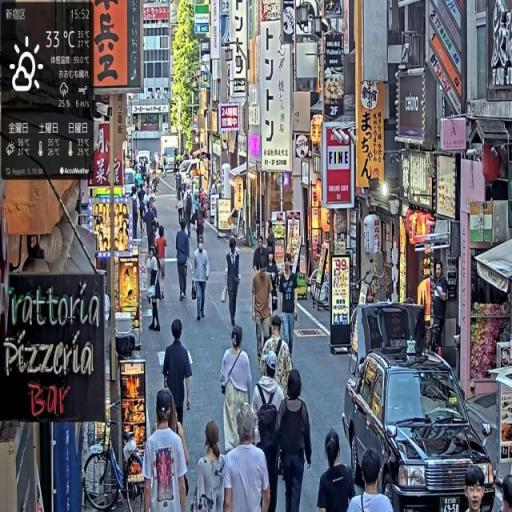person: (349, 449, 479, 512), (144, 390, 188, 512), (252, 352, 285, 512), (224, 404, 271, 512), (279, 370, 313, 512), (140, 389, 191, 481), (221, 327, 253, 452), (163, 320, 193, 426), (318, 430, 356, 512), (196, 420, 227, 512), (261, 316, 293, 396), (253, 258, 273, 363), (280, 254, 299, 355), (193, 236, 211, 322), (226, 238, 243, 327), (434, 262, 449, 351), (148, 247, 163, 332), (176, 220, 191, 302), (466, 466, 486, 512), (157, 227, 168, 300), (268, 252, 280, 315), (145, 198, 159, 247), (254, 237, 269, 274), (131, 187, 141, 240), (185, 185, 194, 239), (139, 186, 147, 235), (502, 475, 512, 512), (178, 176, 185, 223), (144, 186, 156, 211), (268, 222, 277, 255), (197, 211, 205, 246), (193, 192, 201, 227), (136, 165, 144, 188), (211, 182, 218, 195)
